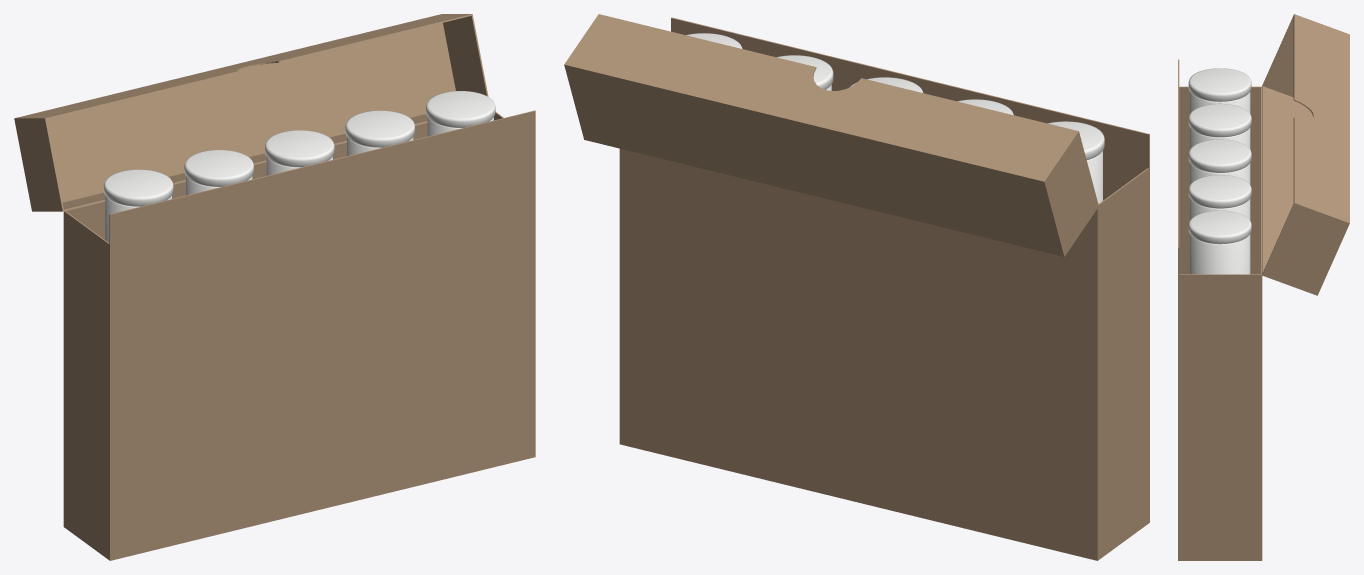
File: preroll-52gr-box-standart-open.glb
The picture shows the model from 3 angles, left to right: view 1: azimuth 30°, elevation 25°; view 2: azimuth 150°, elevation 25°; view 3: azimuth 270°, elevation 25°; orthographic projection. The views are drawn at different scales.
Visible parts, largest first — view 1: p2s_b1, p2s_l0, p2s_b3, p2s_l1, p2s_l3, p2s_l4, p2s_b2, t0_lid, t3_lid, t2_lid, t4_lid, t1_lid (+3 smaller); view 2: p2s_b2, p2s_l0, p2s_l1, p2s_b3, p2s_b1, p2s_l3, p2s_b0, t0_lid, t3_lid; view 3: p2s_b4, p2s_l1, p2s_l2, p2s_l4, p2s_b3, t4_body, t4_lid, t0_lid, t2_lid, t3_lid, t1_lid, p2s_l3 (+7 smaller).
Boxes of the visible parts, x1=… form: p2s_b1: x1=109, y1=110, x2=535, y2=560; p2s_l0: x1=14, y1=23, x2=455, y2=211; p2s_b3: x1=63, y1=211, x2=111, y2=560; p2s_l1: x1=15, y1=14, x2=472, y2=119; p2s_l3: x1=14, y1=118, x2=63, y2=211; p2s_l4: x1=443, y1=15, x2=488, y2=96; p2s_b2: x1=63, y1=122, x2=427, y2=526; t0_lid: x1=103, y1=169, x2=173, y2=206; t3_lid: x1=345, y1=110, x2=414, y2=147; t2_lid: x1=265, y1=130, x2=334, y2=167; t4_lid: x1=426, y1=91, x2=495, y2=127; t1_lid: x1=184, y1=150, x2=253, y2=186; p2s_b2: x1=619, y1=148, x2=1098, y2=560; p2s_l0: x1=564, y1=63, x2=1064, y2=256; p2s_l1: x1=565, y1=14, x2=1079, y2=182; p2s_b3: x1=1096, y1=168, x2=1149, y2=560; p2s_b1: x1=671, y1=17, x2=1149, y2=521; p2s_l3: x1=1043, y1=131, x2=1098, y2=254; p2s_b0: x1=619, y1=443, x2=1149, y2=560; t0_lid: x1=1047, y1=121, x2=1104, y2=160; t3_lid: x1=776, y1=55, x2=833, y2=89; p2s_b4: x1=1178, y1=274, x2=1262, y2=560; p2s_l1: x1=1293, y1=14, x2=1349, y2=223; p2s_l2: x1=1262, y1=86, x2=1317, y2=295; p2s_l4: x1=1262, y1=204, x2=1348, y2=295; p2s_b3: x1=1179, y1=86, x2=1260, y2=274; t4_body: x1=1190, y1=234, x2=1250, y2=274; t4_lid: x1=1188, y1=210, x2=1251, y2=244; t0_lid: x1=1188, y1=68, x2=1251, y2=101; t2_lid: x1=1188, y1=139, x2=1251, y2=172; t3_lid: x1=1188, y1=175, x2=1251, y2=208; t1_lid: x1=1188, y1=103, x2=1251, y2=137; p2s_l3: x1=1262, y1=16, x2=1322, y2=97.
Bounding box in the file's own units: 0.1487 × 0.1315 × 0.0572.
